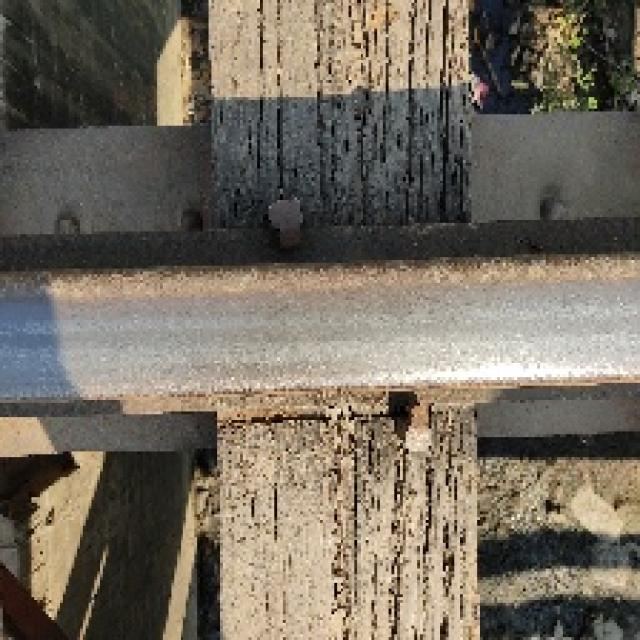Good Fasteners: (269, 200, 297, 246), (406, 403, 429, 449)
